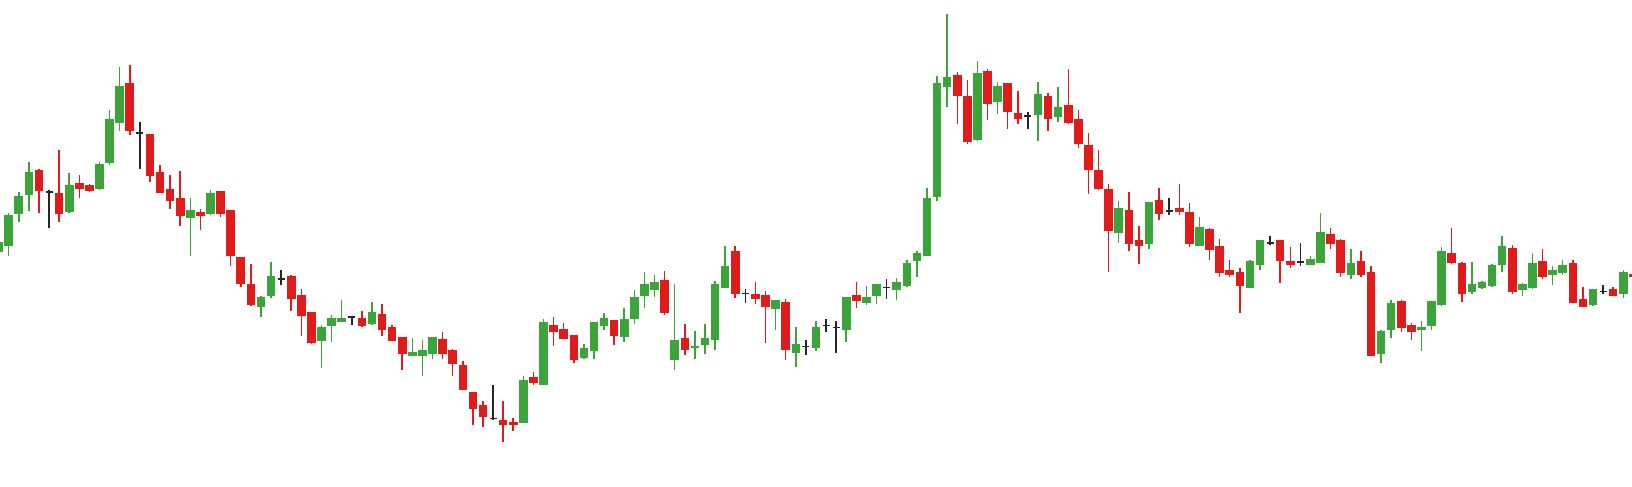sell: (659, 239, 742, 325), (1268, 207, 1337, 266)
